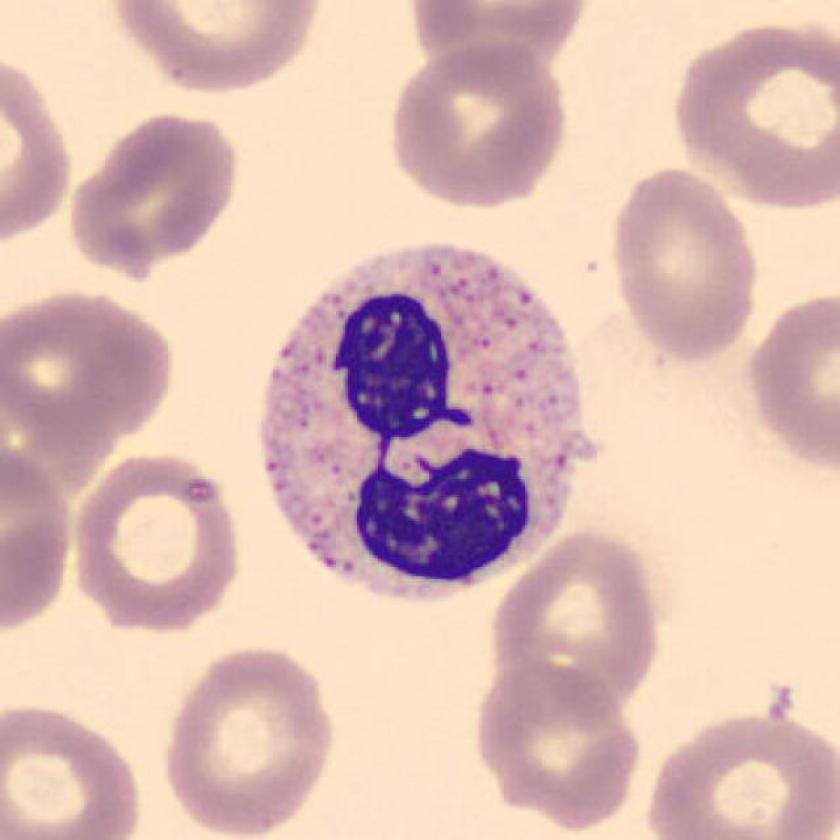neutrophil: (258, 242, 584, 601)
